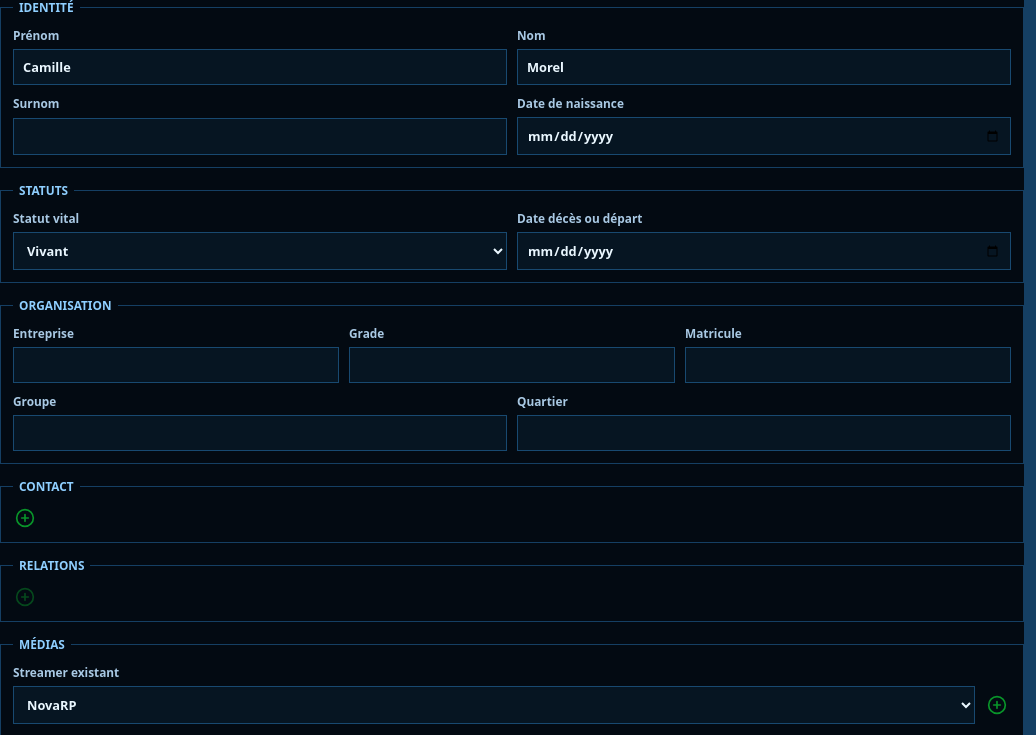
CharacterSnapshotForm › clears media links when the streamer is removed
Select "Aucun streamer" in the dropdown labelled "Streamer existant" at (494, 705), box x1=13 y1=686 x2=975 y2=724
(page scrolled)
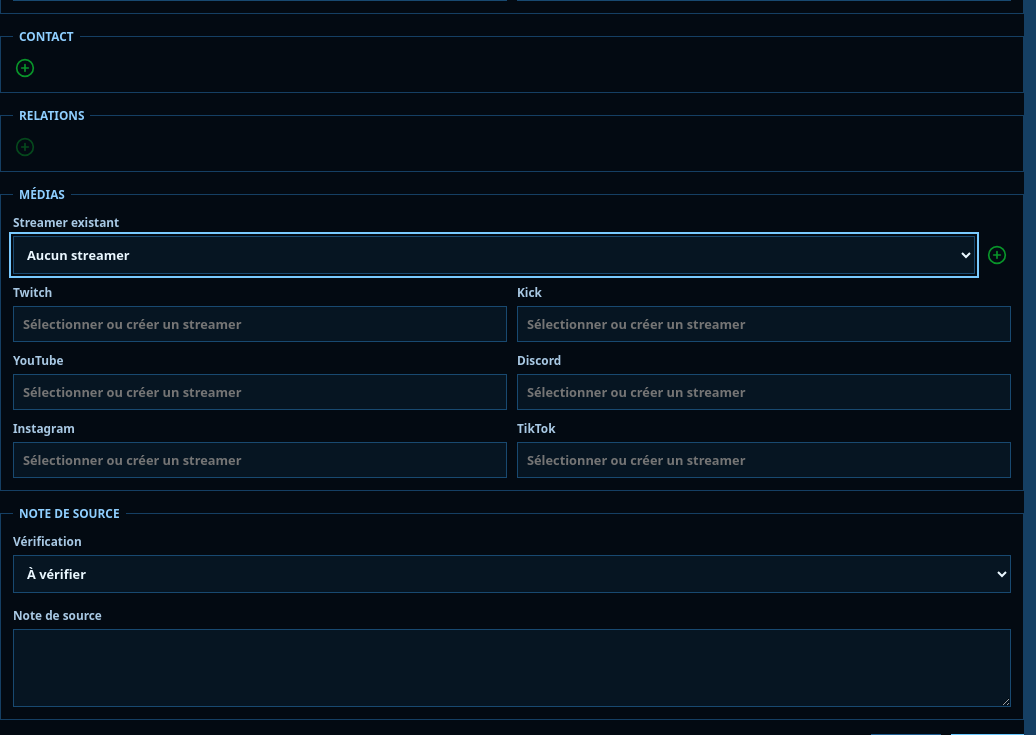
Now the field labelled "Twitch" is empty, box x1=13 y1=306 x2=507 y2=342
Now the field labelled "Discord" is empty, box x1=517 y1=374 x2=1011 y2=410
Now the field labelled "Twitch" is disabled, box x1=13 y1=306 x2=507 y2=342
